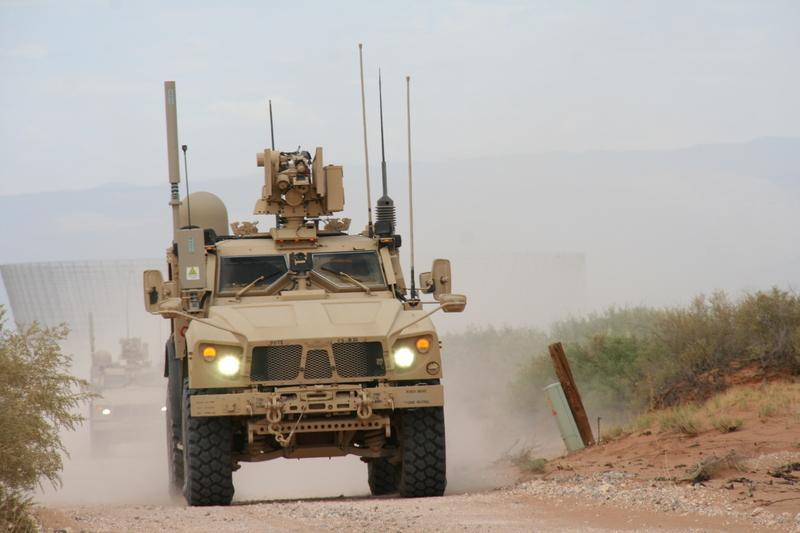armored_car: (142, 200, 459, 508), (87, 312, 169, 456)
